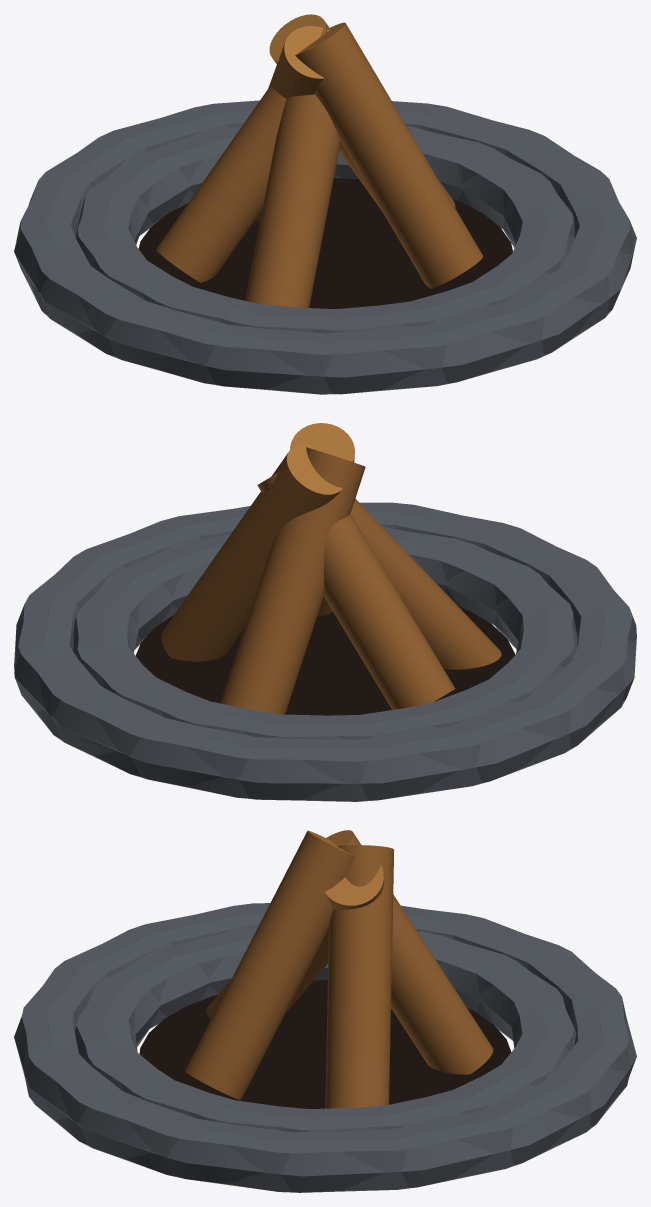
File: Lagerfeuer_2.fbx
3 renders of one model, top to bottom at view 1: azimuth 30°, elevation 25°; view 2: azimuth 150°, elevation 25°; view 3: azimuth 270°, elevation 25°, orthographic. The views are drawn at different scales.
Visible parts, largest first — view 1: Steine Lagerfeuer, Asche Lagerfeuer; view 2: Steine Lagerfeuer, Asche Lagerfeuer; view 3: Steine Lagerfeuer, Asche Lagerfeuer.
Part boxes in pixels (<box>): Steine Lagerfeuer: <box>14,100,636,394</box>; Asche Lagerfeuer: <box>138,14,512,308</box>; Steine Lagerfeuer: <box>14,502,636,801</box>; Asche Lagerfeuer: <box>135,423,515,715</box>; Steine Lagerfeuer: <box>14,903,636,1192</box>; Asche Lagerfeuer: <box>139,830,510,1108</box>.
Size of the model in its own units: 201 by 95.34 by 203.
